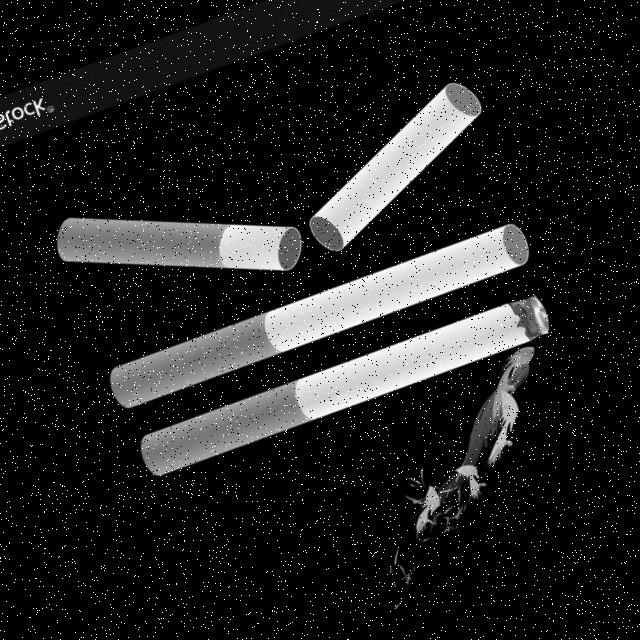cigarette: (127, 282, 555, 483)
